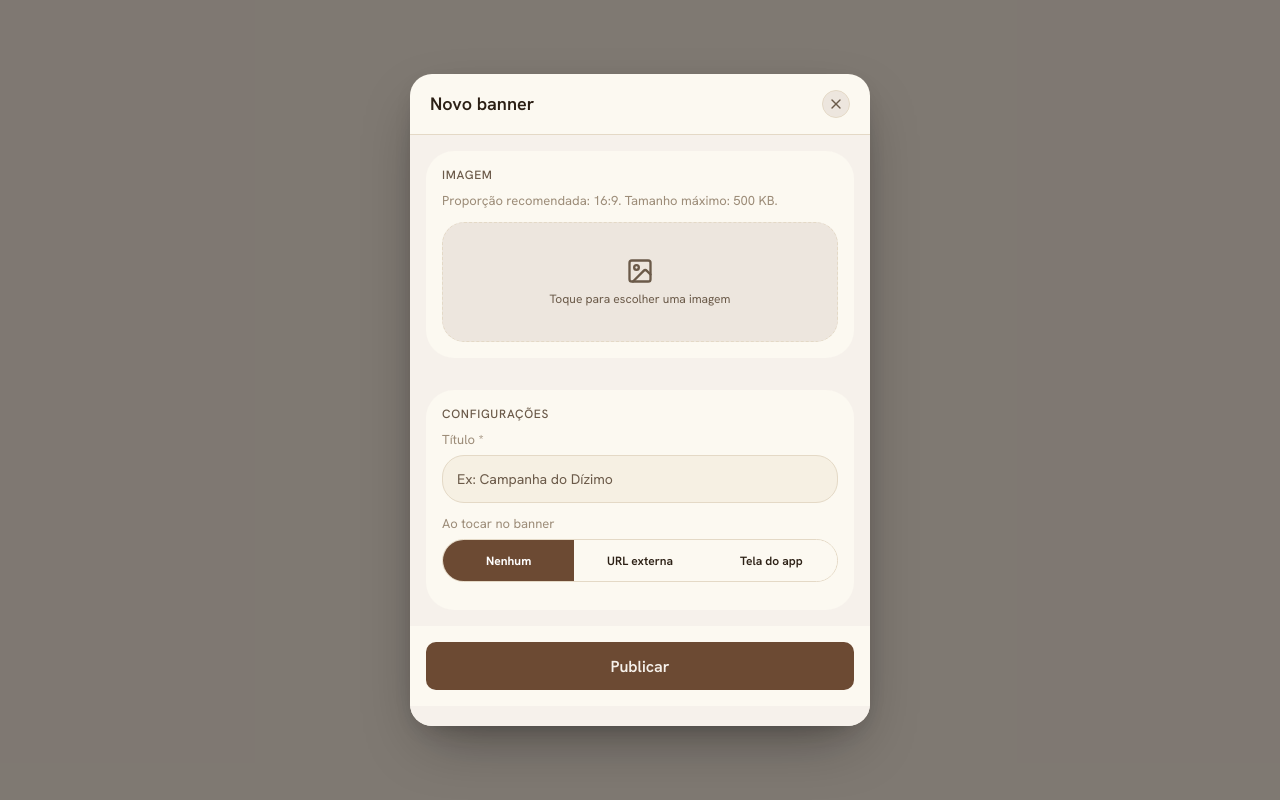
ModalBannerForm · criação › exige imagem e título
The width and height of the screenshot is (1280, 800).
Click the button "Publicar": (640, 666) top-left (426, 642), bottom-right (854, 690)
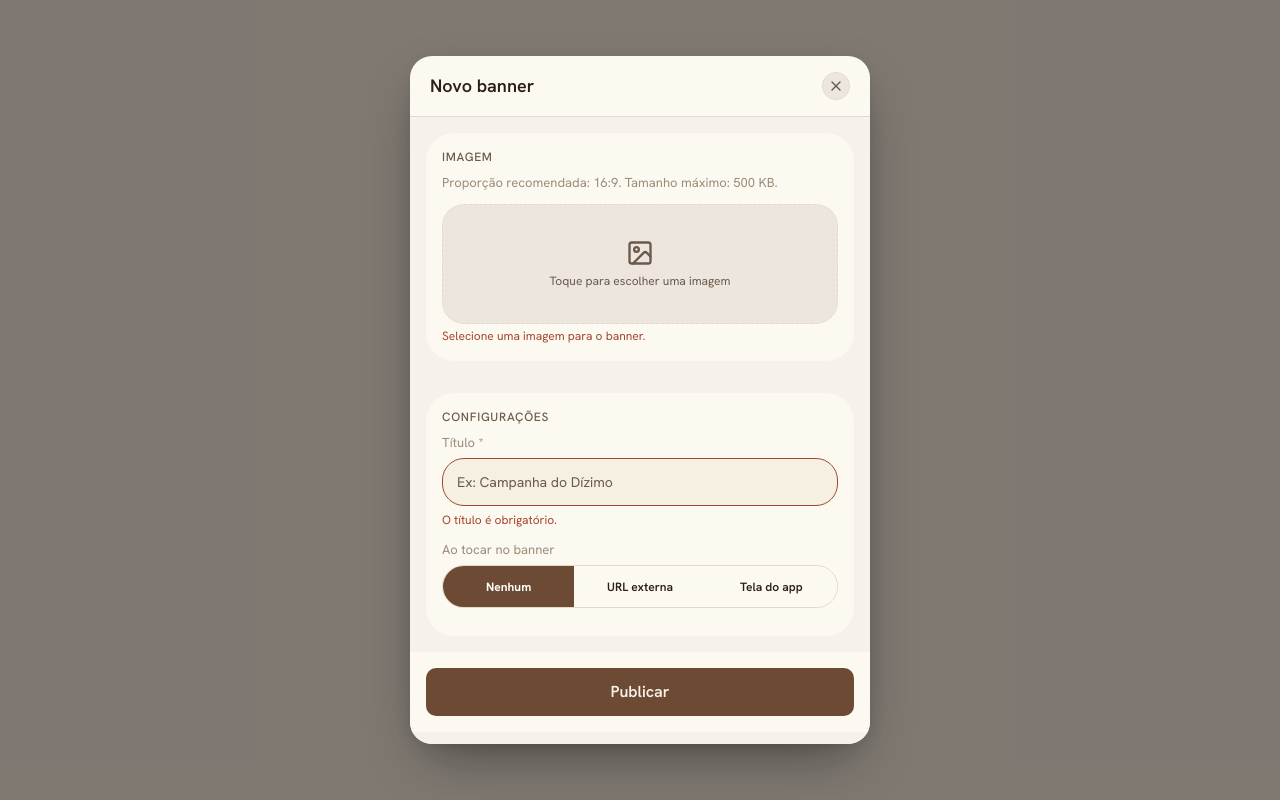
Expected: the text "Selecione uma imagem para o banner." is shown, top-left (442, 328), bottom-right (645, 344)
Expected: the text "O título é obrigatório." is shown, top-left (442, 512), bottom-right (557, 528)
